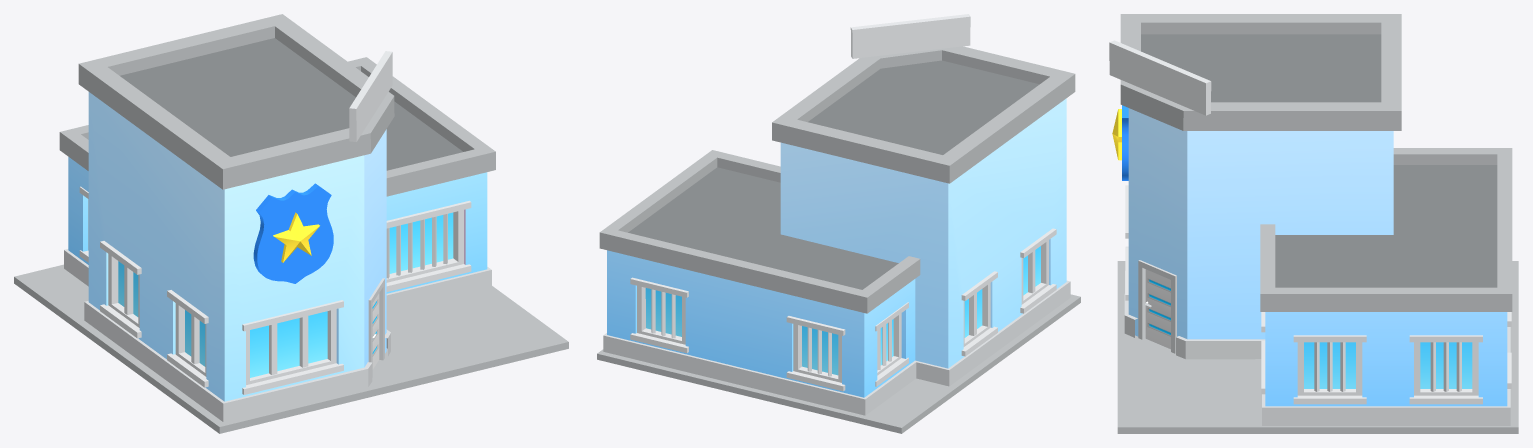
The model's file is Building_Institution_04.glb.
3 renders of one model, left to right at view 1: azimuth 30°, elevation 25°; view 2: azimuth 150°, elevation 25°; view 3: azimuth 270°, elevation 25°, orthographic. The views are drawn at different scales.
Visible parts, largest first — view 1: Building_Institution_04; view 2: Building_Institution_04; view 3: Building_Institution_04.
Part boxes in pixels (x1,y1,x2,y2): Building_Institution_04: (14, 14, 568, 433); Building_Institution_04: (597, 14, 1080, 433); Building_Institution_04: (1109, 14, 1518, 433).
Bounding box in the file's own units: 10.64 × 8.6 × 11.06.
1 material, 1 textured.
